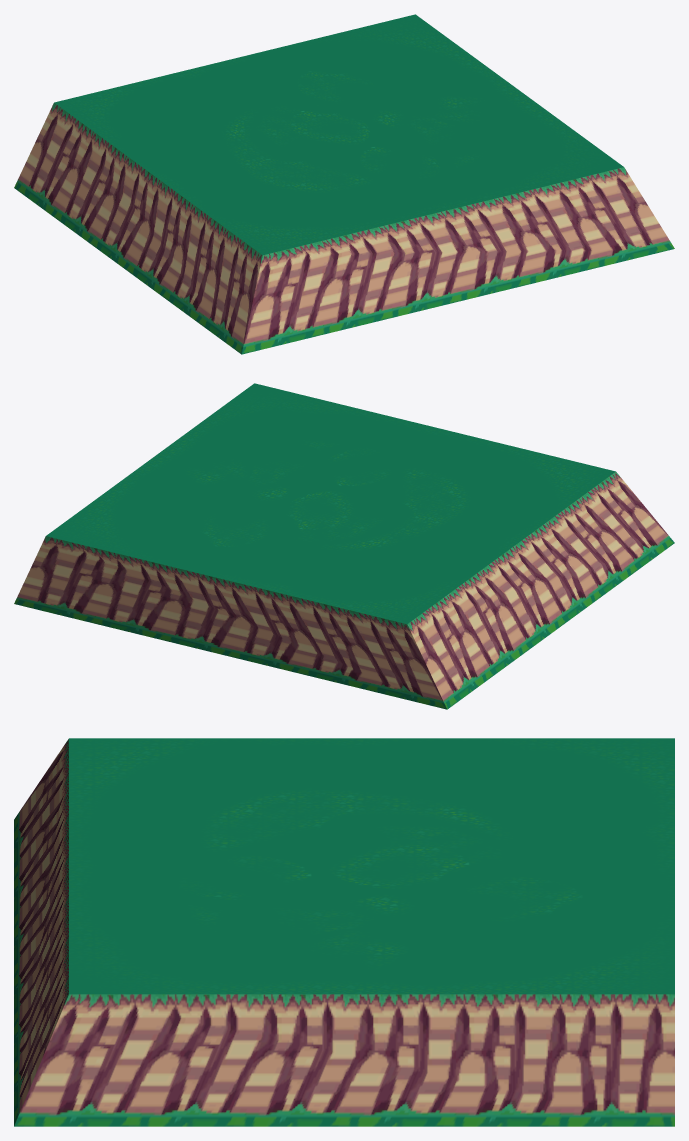
Rendered from World_FINAL.fbx.
3 renders of one model, top to bottom at view 1: azimuth 30°, elevation 25°; view 2: azimuth 150°, elevation 25°; view 3: azimuth 270°, elevation 25°, orthographic. The views are drawn at different scales.
Visible parts, largest first — view 1: Cube.002; view 2: Cube.002; view 3: Cube.002.
Boxes of the visible parts, x1,y1,x2,y2 form: Cube.002: [14, 14, 674, 354]; Cube.002: [14, 383, 674, 709]; Cube.002: [14, 738, 674, 1126].
Bounding box in the file's own units: 11987 × 2000 × 10908.
2 materials, 2 textured.
